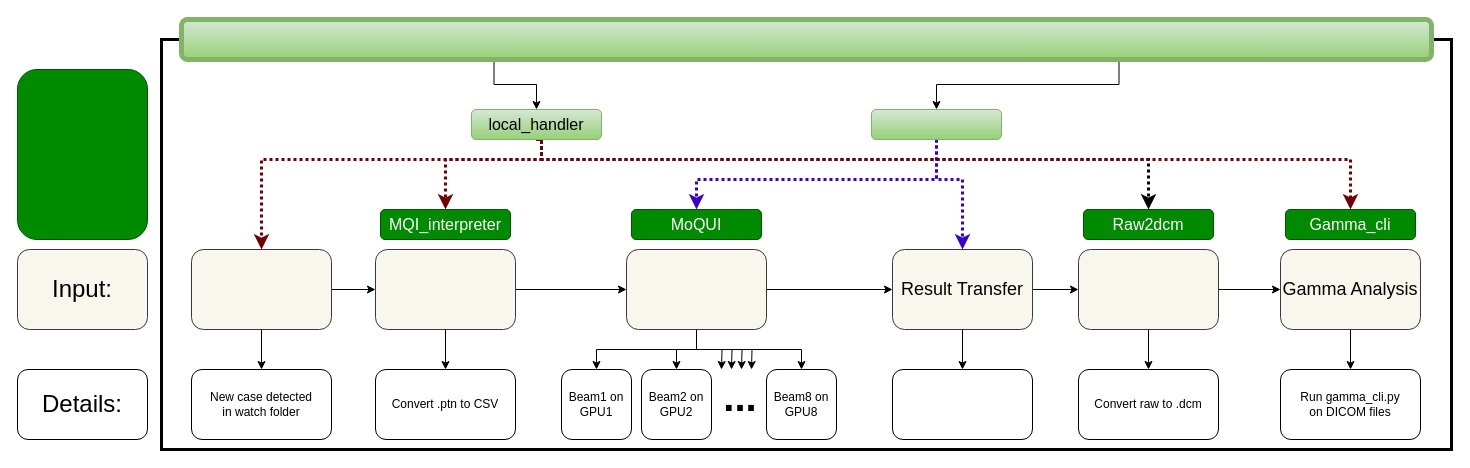
The diagram is 1470 pixels wide and 468 high, and some of its shapes have lost their labels. The shapes that lost their labels are listed below. From the top down, each one's box as (x1, y1, x2, y2) in pixels, then its label:
(178, 16, 1434, 62): MQI_communicator
(870, 108, 1002, 140): remote_handler
(16, 68, 148, 240): Program:
(190, 248, 332, 330): Input
(374, 248, 516, 330): Preprocessing
(626, 248, 766, 330): Remote Computation
(1078, 248, 1218, 330): Conversion
(892, 368, 1032, 440): Download .raw
